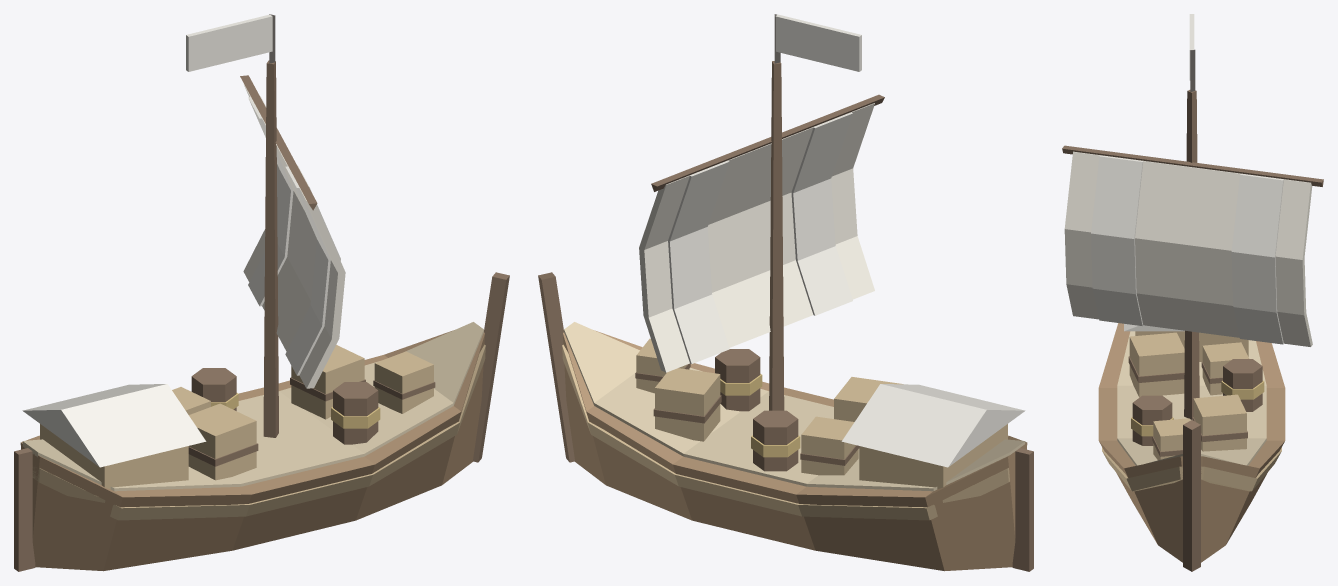
The model's file is trader.glb.
The picture shows the model from 3 angles, left to right: view 1: azimuth 30°, elevation 25°; view 2: azimuth 150°, elevation 25°; view 3: azimuth 270°, elevation 25°; orthographic projection. The views are drawn at different scales.
Parts seen in each view (by area): view 1: medieval_trader; view 2: medieval_trader; view 3: medieval_trader.
Part boxes in pixels (bbox=[...]): medieval_trader: bbox=[14, 14, 509, 571]; medieval_trader: bbox=[538, 14, 1033, 571]; medieval_trader: bbox=[1062, 14, 1323, 571].
Size of the model in its own units: 0.9995 by 0.9562 by 0.525.
